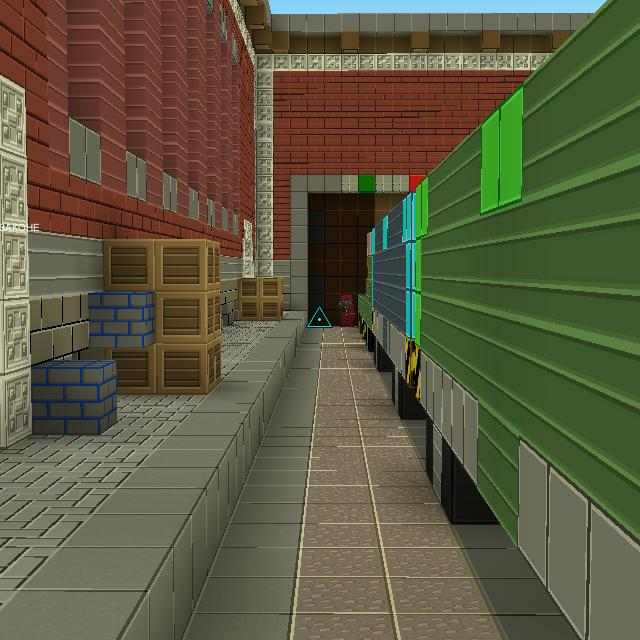enemy: (337, 294, 356, 327)
